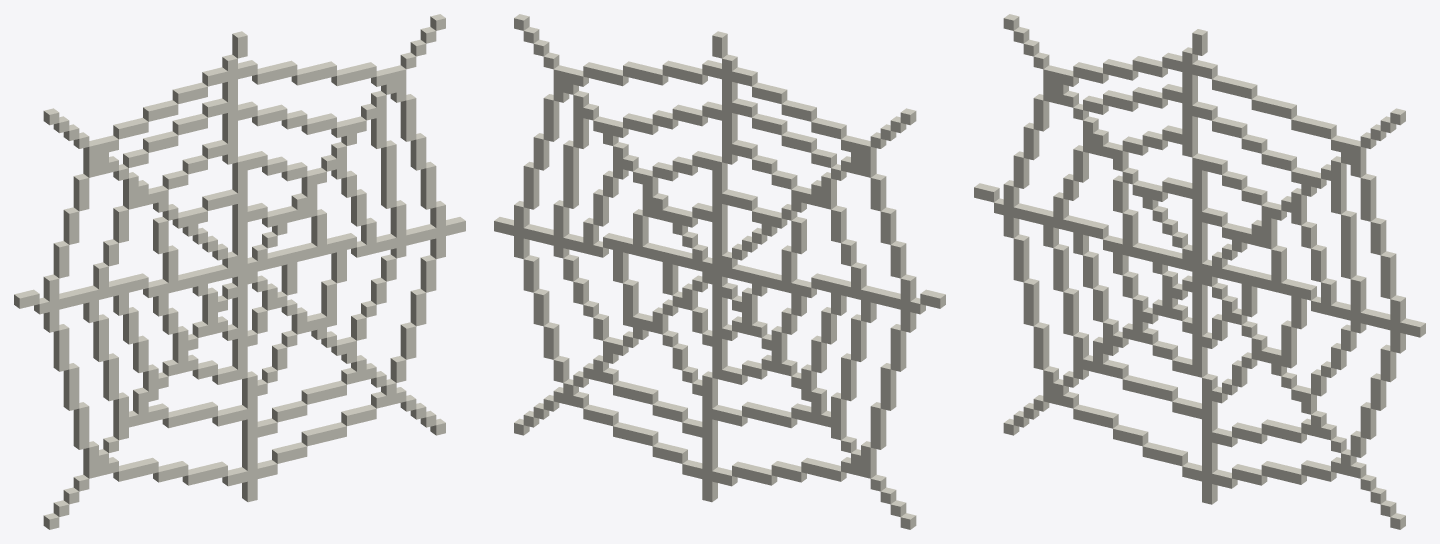
Rendered from web.obj.
The picture shows the model from 3 angles, left to right: view 1: azimuth 30°, elevation 25°; view 2: azimuth 150°, elevation 25°; view 3: azimuth 330°, elevation 25°; orthographic projection.
Visible parts, largest first — view 1: web; view 2: web; view 3: web.
Boxes of the visible parts, box(x1,y1,x2,y2) form: web: box(14, 14, 465, 529); web: box(494, 14, 945, 529); web: box(974, 14, 1425, 529).
Size of the model in its own units: 45 by 45 by 1.
1 material, 1 textured.
